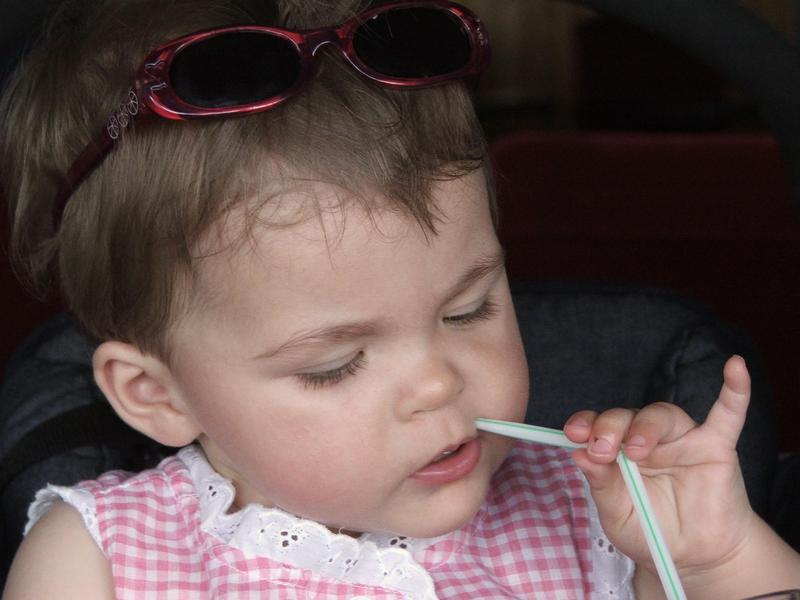person: (15, 15, 773, 600)
